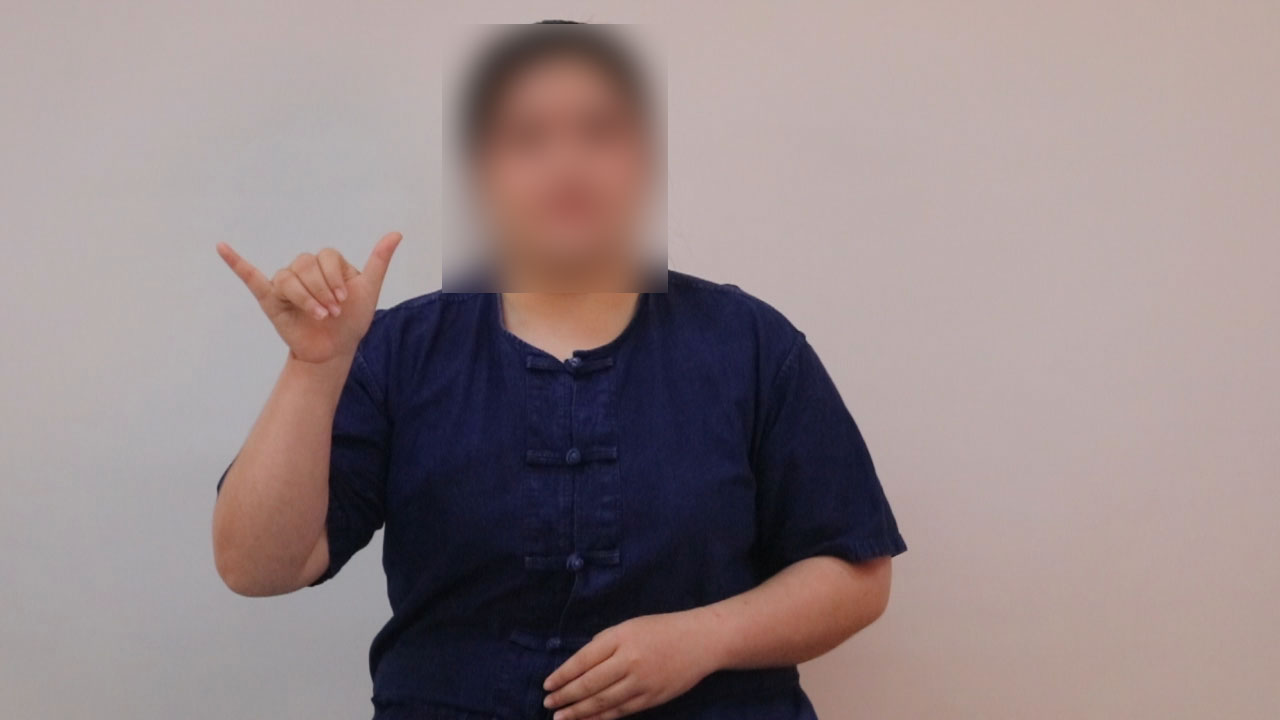yor: (197, 226, 418, 366)
